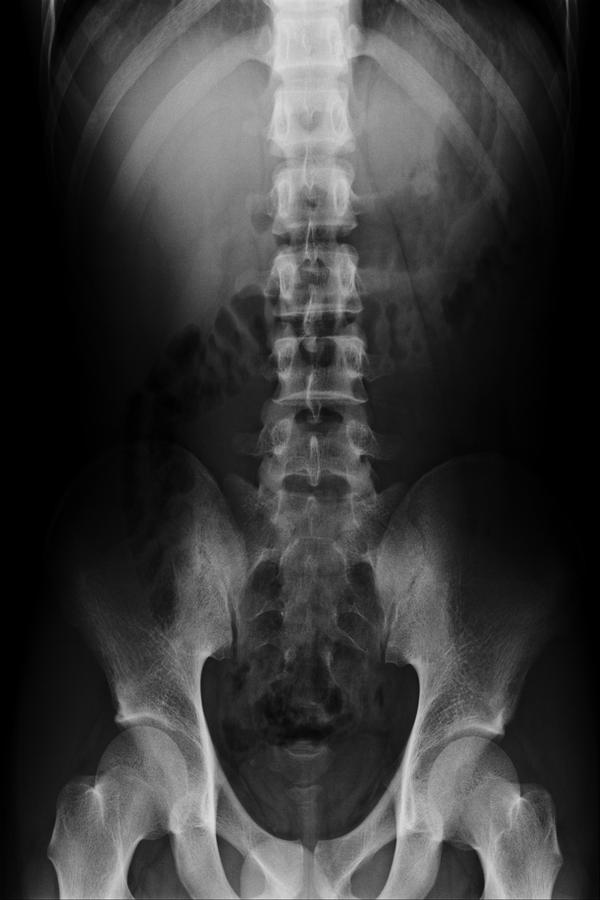not lumbar scoliosis: (258, 176, 381, 531)
